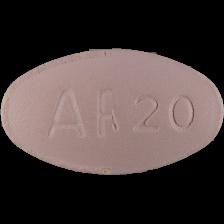50268-614: (0, 0, 224, 224)
